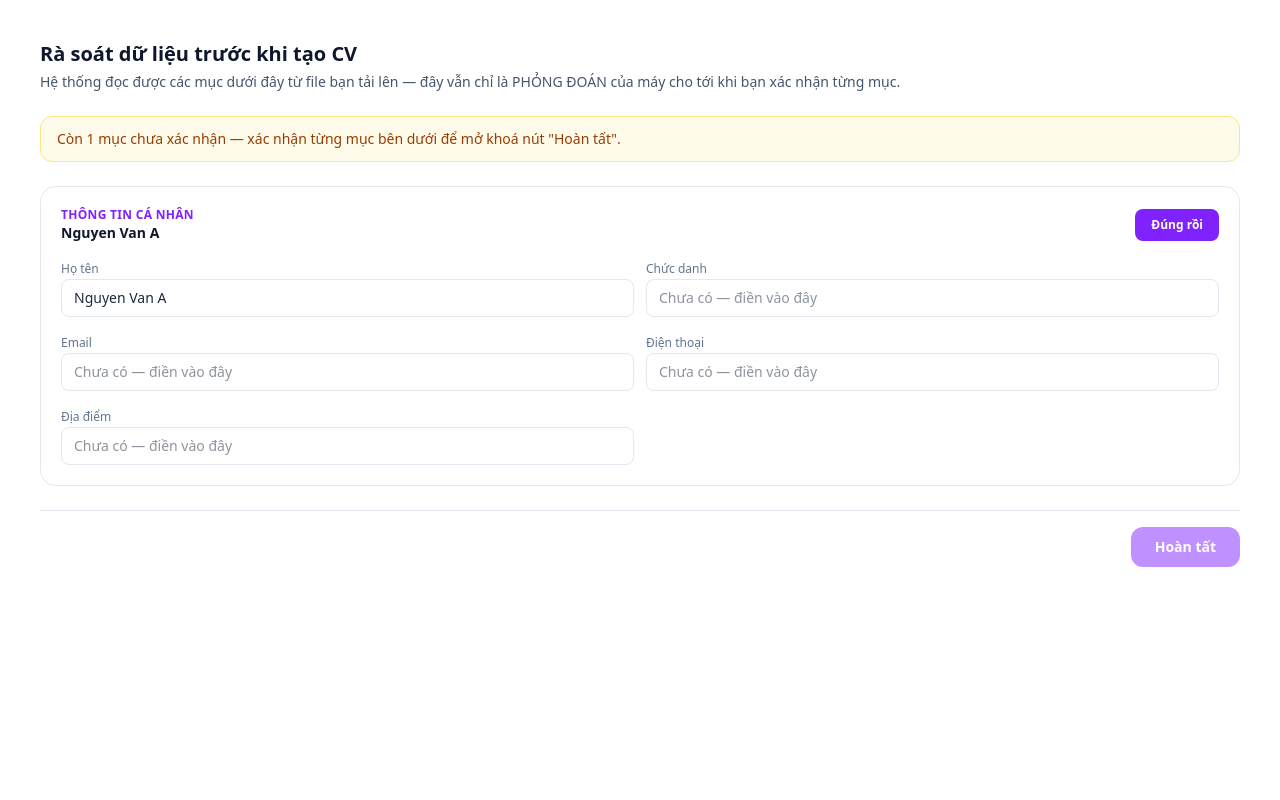
Test: /import/:jobId/review › lưu xác nhận thành công nhưng tải lại tiến độ hỏng thì KHÔNG báo "lưu thất bại" — báo đúng lỗi tải lại, Hoàn tất vẫn khoá (Minor 3)
Click the button "Đúng rồi" at point(1177, 225), box [1135,209,1219,241]
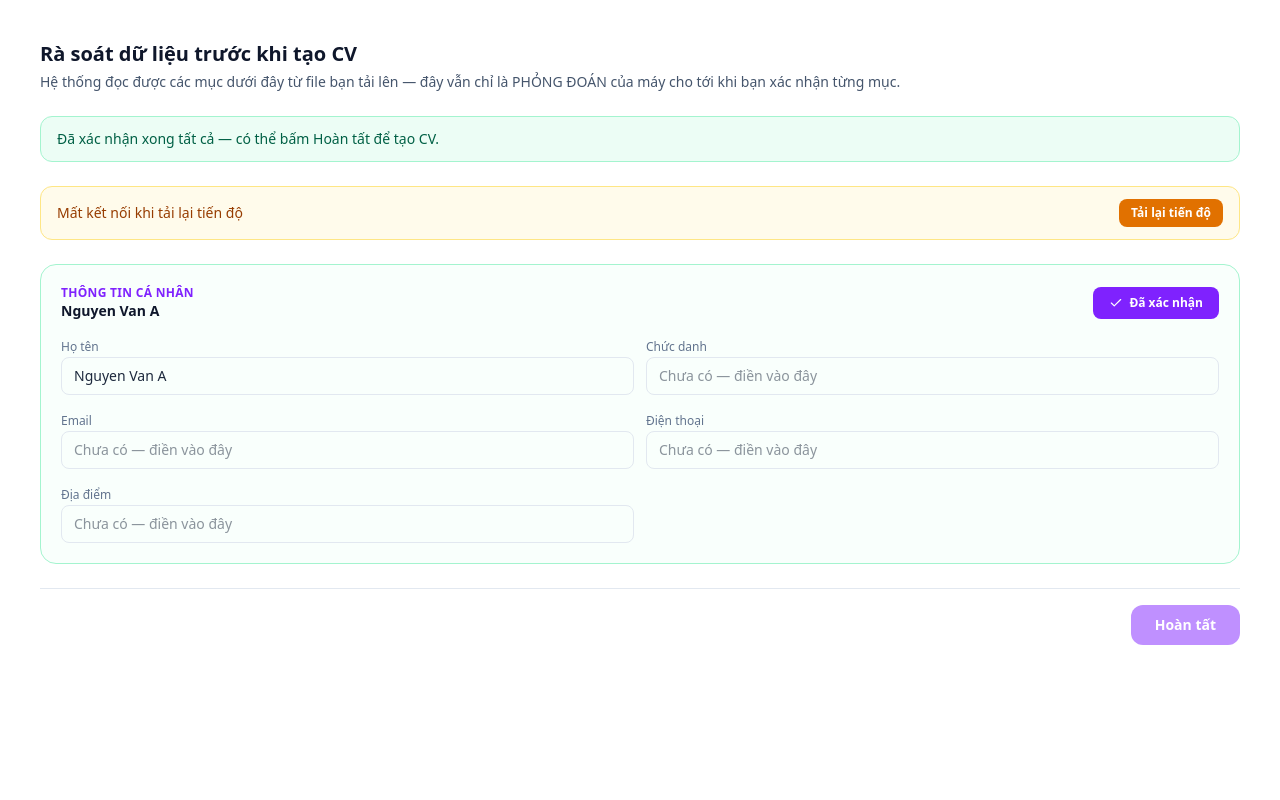
Expected: the button "Hoàn tất" is disabled, [1131,605,1240,645]
Expected: the button "Đã xác nhận" is shown, [1093,287,1219,319]
Expected: the button "Tải lại tiến độ" is shown, [1119,199,1223,227]
